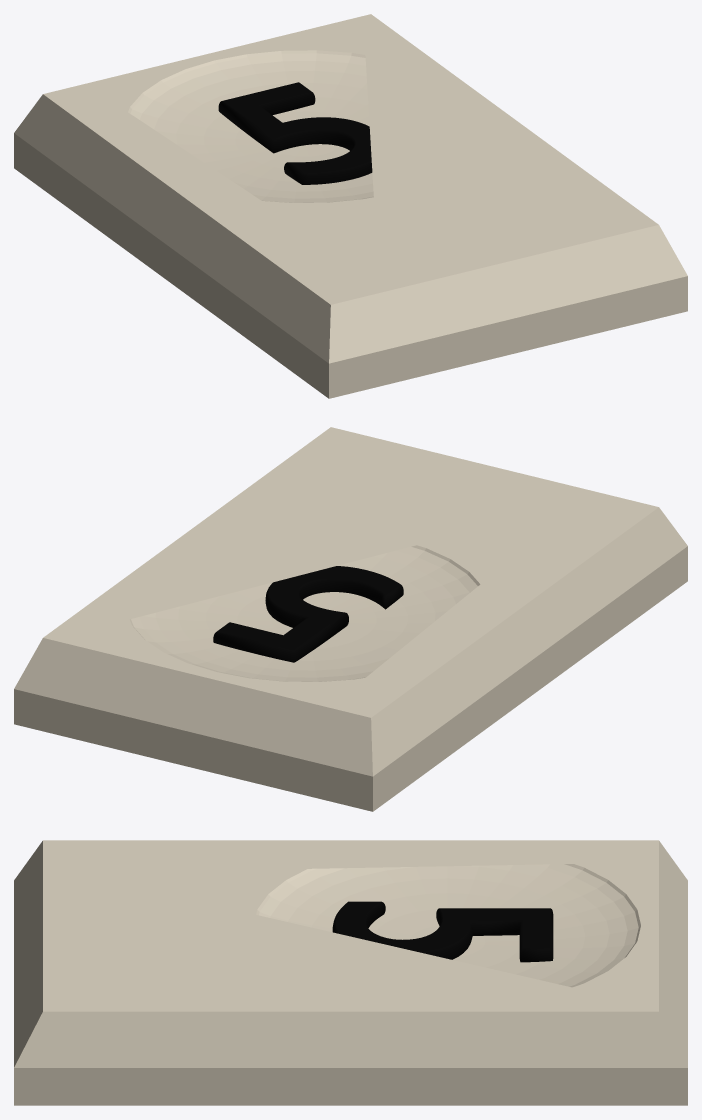
The model's file is b5_cube_tail.fbx.
The picture shows the model from 3 angles, top to bottom: view 1: azimuth 30°, elevation 25°; view 2: azimuth 150°, elevation 25°; view 3: azimuth 270°, elevation 25°; orthographic projection. The views are drawn at different scales.
Visible parts, largest first — view 1: 큐브, 숫자; view 2: 큐브, 숫자; view 3: 큐브, 숫자.
Part boxes in pixels (bbox=[...]): 큐브: bbox=[14, 14, 687, 398]; 숫자: bbox=[218, 82, 372, 184]; 큐브: bbox=[14, 427, 687, 811]; 숫자: bbox=[213, 566, 403, 662]; 큐브: bbox=[14, 840, 687, 1105]; 숫자: bbox=[332, 901, 553, 962].
Bounding box in the file's own units: 500 × 107 × 760.
